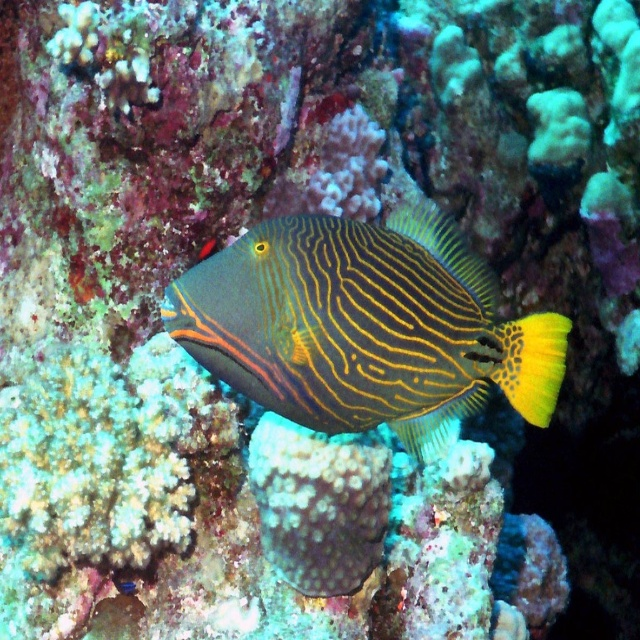Fish: (160, 198, 573, 464)
